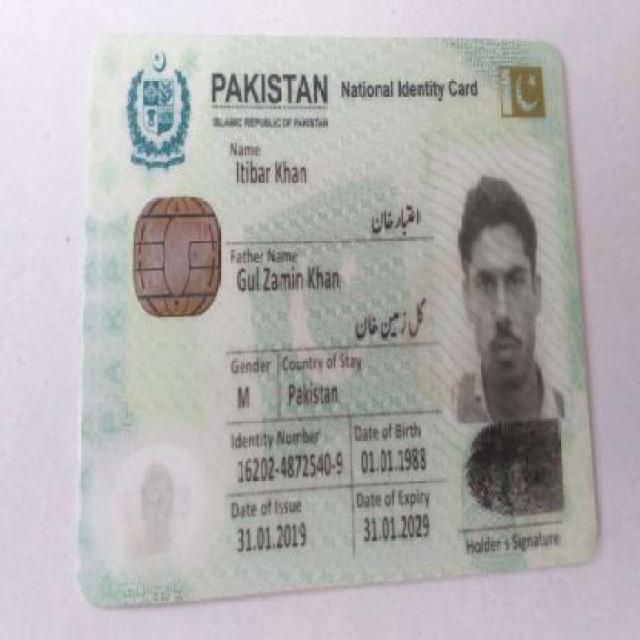Front: (63, 34, 603, 595)
